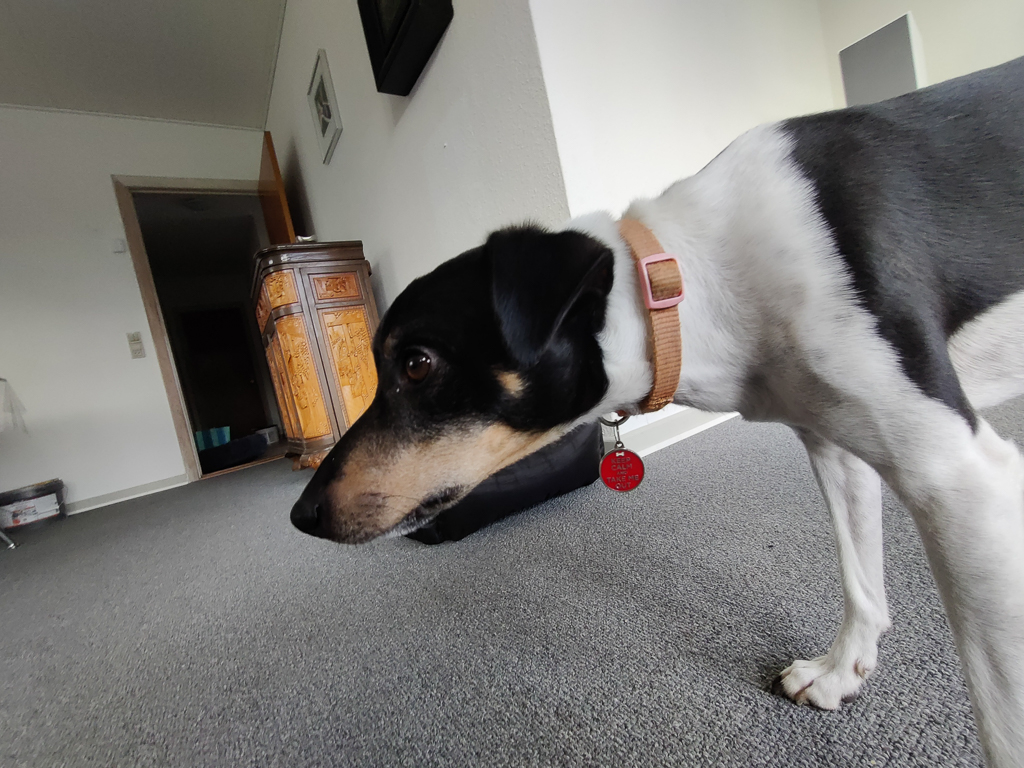Dog: (284, 42, 1024, 768)
